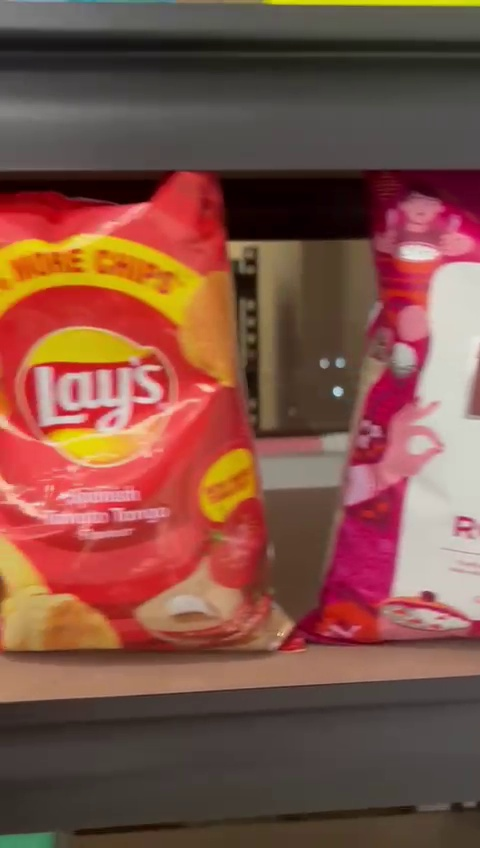Lays: (1, 187, 271, 662)
